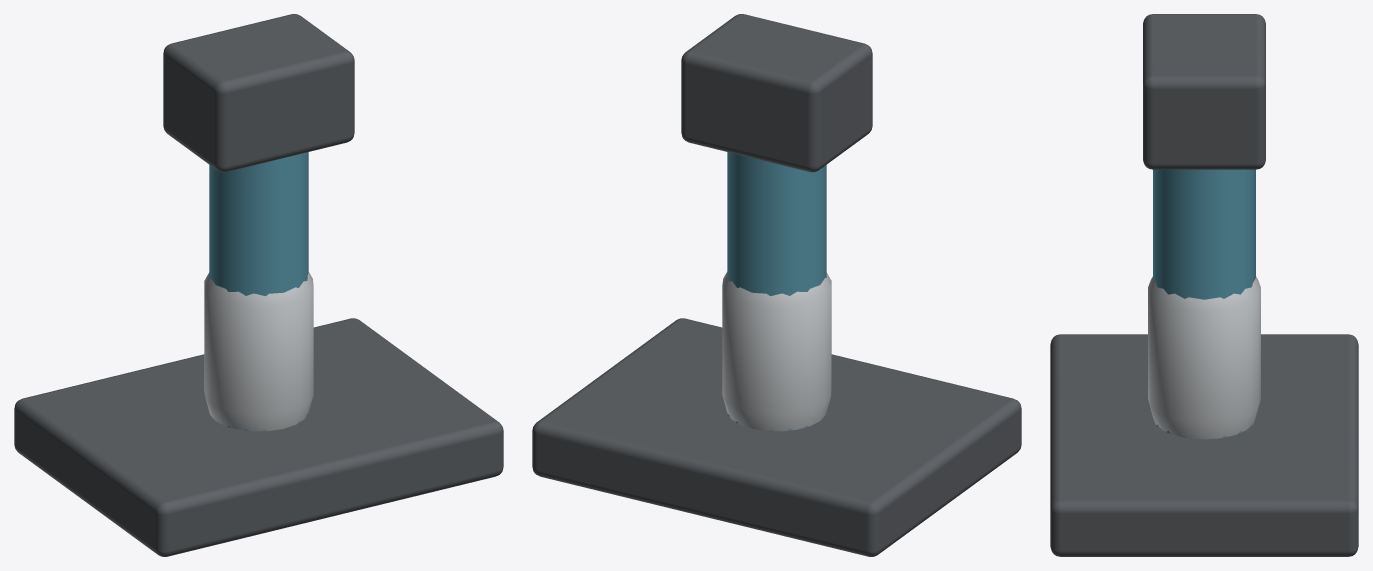
File: geotechnical-soil-testing-laboratory-dispersion-mixer-61559dc6__39073.glb
The picture shows the model from 3 angles, left to right: view 1: azimuth 30°, elevation 25°; view 2: azimuth 150°, elevation 25°; view 3: azimuth 270°, elevation 25°; orthographic projection. The views are drawn at different scales.
Parts seen in each view (by area): view 1: dispersion-mixer; view 2: dispersion-mixer; view 3: dispersion-mixer.
Part boxes in pixels (x1,y1,x2,y2): dispersion-mixer: (14, 14, 503, 556); dispersion-mixer: (532, 14, 1021, 556); dispersion-mixer: (1050, 14, 1358, 556).
Size of the model in its own units: 0.4 by 0.46 by 0.3.
